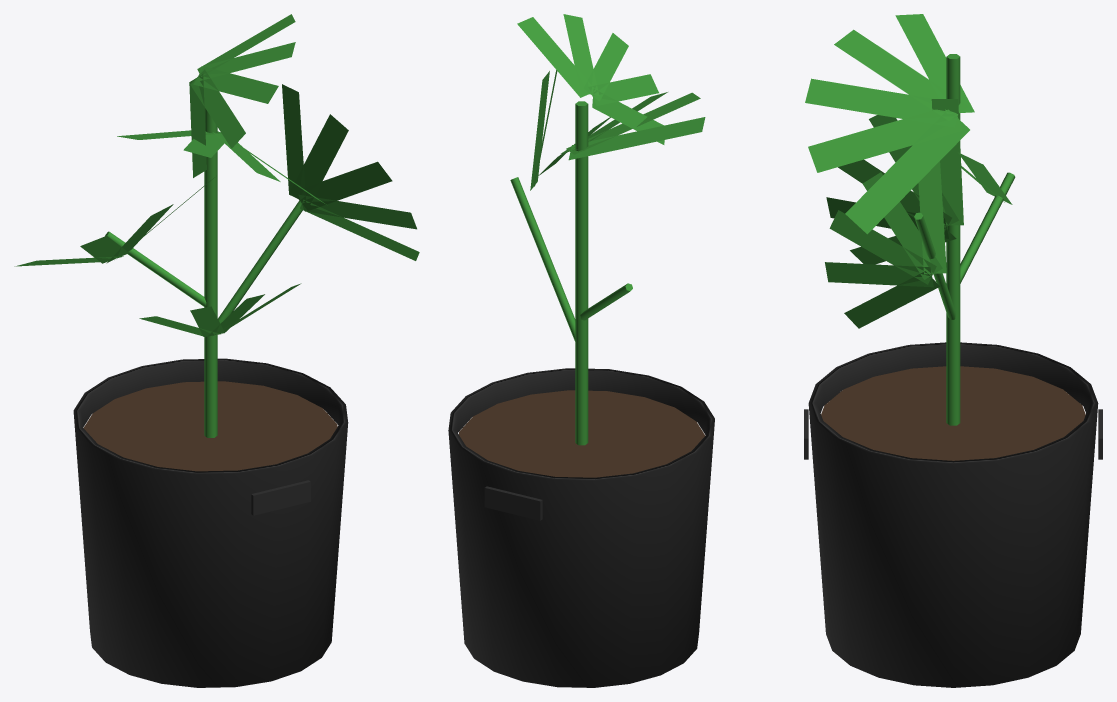
Rendered from pot-fabric-3gal-plant-veg.glb.
The picture shows the model from 3 angles, left to right: view 1: azimuth 30°, elevation 25°; view 2: azimuth 150°, elevation 25°; view 3: azimuth 270°, elevation 25°; orthographic projection. The views are drawn at different scales.
Parts seen in each view (by area): view 1: pot_body, plant_leaves, soil_surface, plant_stem, pot_handles; view 2: pot_body, soil_surface, plant_leaves, plant_stem, pot_handles; view 3: pot_body, plant_leaves, soil_surface, plant_stem, pot_handles.
Boxes of the visible parts, <box> form: pot_body: <box>73,358,348,687</box>; plant_leaves: <box>14,14,419,336</box>; soil_surface: <box>83,381,337,471</box>; plant_stem: <box>105,107,302,437</box>; pot_handles: <box>251,480,310,515</box>; pot_body: <box>448,368,714,687</box>; soil_surface: <box>458,390,705,477</box>; plant_leaves: <box>517,14,705,190</box>; plant_stem: <box>510,101,632,445</box>; pot_handles: <box>484,486,542,520</box>; pot_body: <box>808,342,1098,687</box>; plant_leaves: <box>805,14,1012,328</box>; soil_surface: <box>821,366,1085,460</box>; plant_stem: <box>914,54,1015,425</box>; pot_handles: <box>804,409,1102,459</box>.
Bounding box in the file's own units: 0.3588 × 0.6104 × 0.2656.
